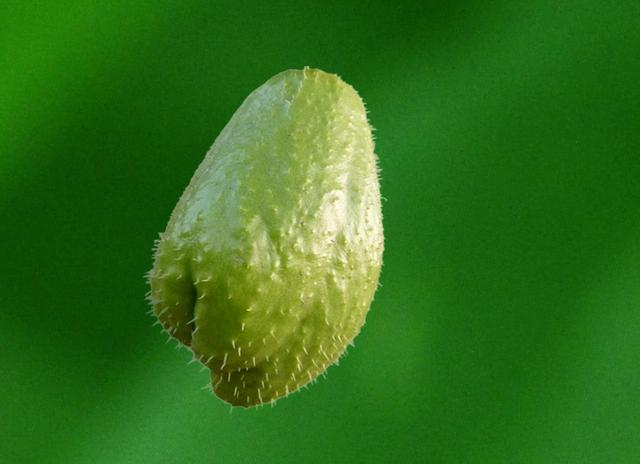sayote: (142, 66, 386, 412)
